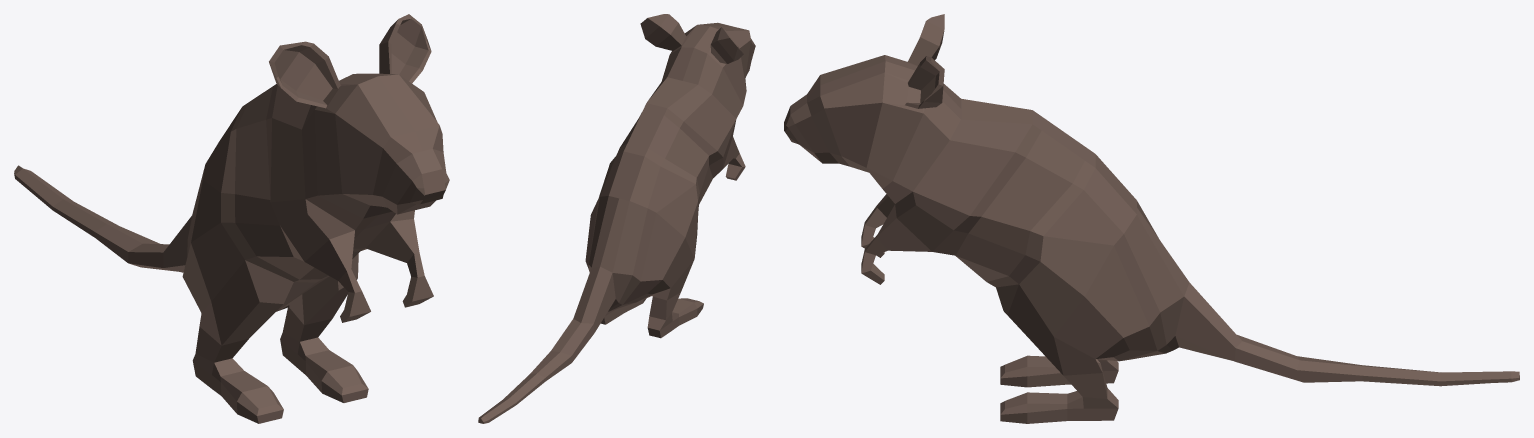
The picture shows the model from 3 angles, left to right: view 1: azimuth 30°, elevation 25°; view 2: azimuth 150°, elevation 25°; view 3: azimuth 270°, elevation 25°; orthographic projection. The views are drawn at different scales.
Visible parts, largest first — view 1: Mouse; view 2: Mouse; view 3: Mouse.
Part boxes in pixels (bbox=[...]): Mouse: bbox=[14, 14, 449, 423]; Mouse: bbox=[478, 14, 755, 423]; Mouse: bbox=[784, 14, 1519, 423].
Bounding box in the file's own units: 6.48 × 16.55 × 30.59.
